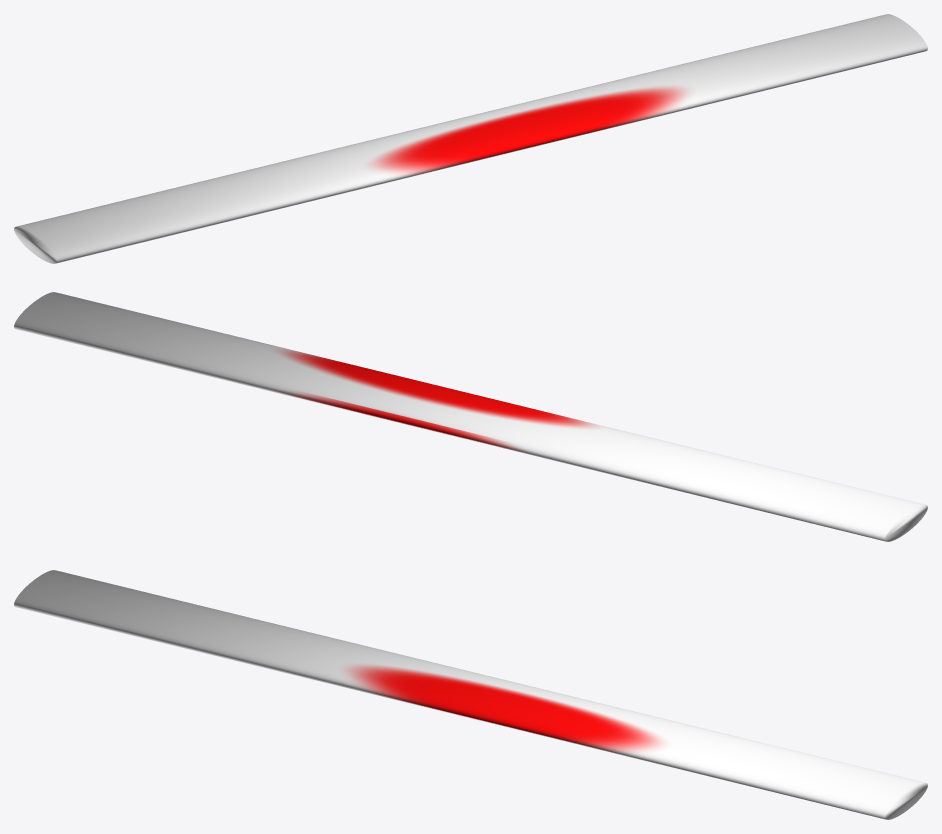
The model's file is stick.obj.
The picture shows the model from 3 angles, top to bottom: view 1: azimuth 30°, elevation 25°; view 2: azimuth 150°, elevation 25°; view 3: azimuth 330°, elevation 25°; orthographic projection.
Visible parts, largest first — view 1: Cylinder; view 2: Cylinder; view 3: Cylinder.
Boxes of the visible parts, box(x1,y1,x2,y2) form: Cylinder: box(14, 14, 927, 263); Cylinder: box(14, 292, 927, 541); Cylinder: box(14, 570, 927, 819).
Size of the model in its own units: 6.67 by 0.1459 by 0.5749.
